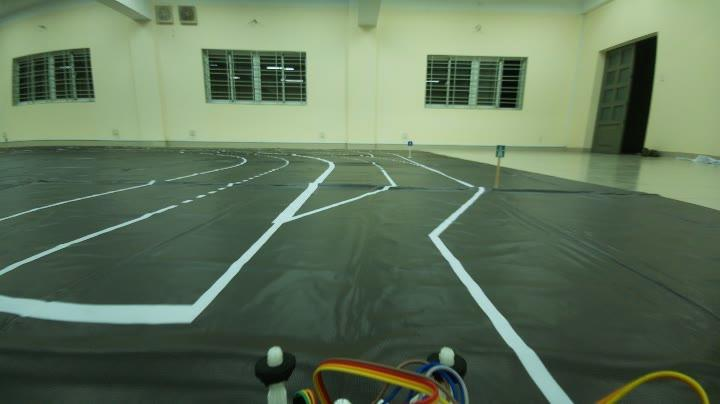highway_entry: (491, 140, 509, 161)
